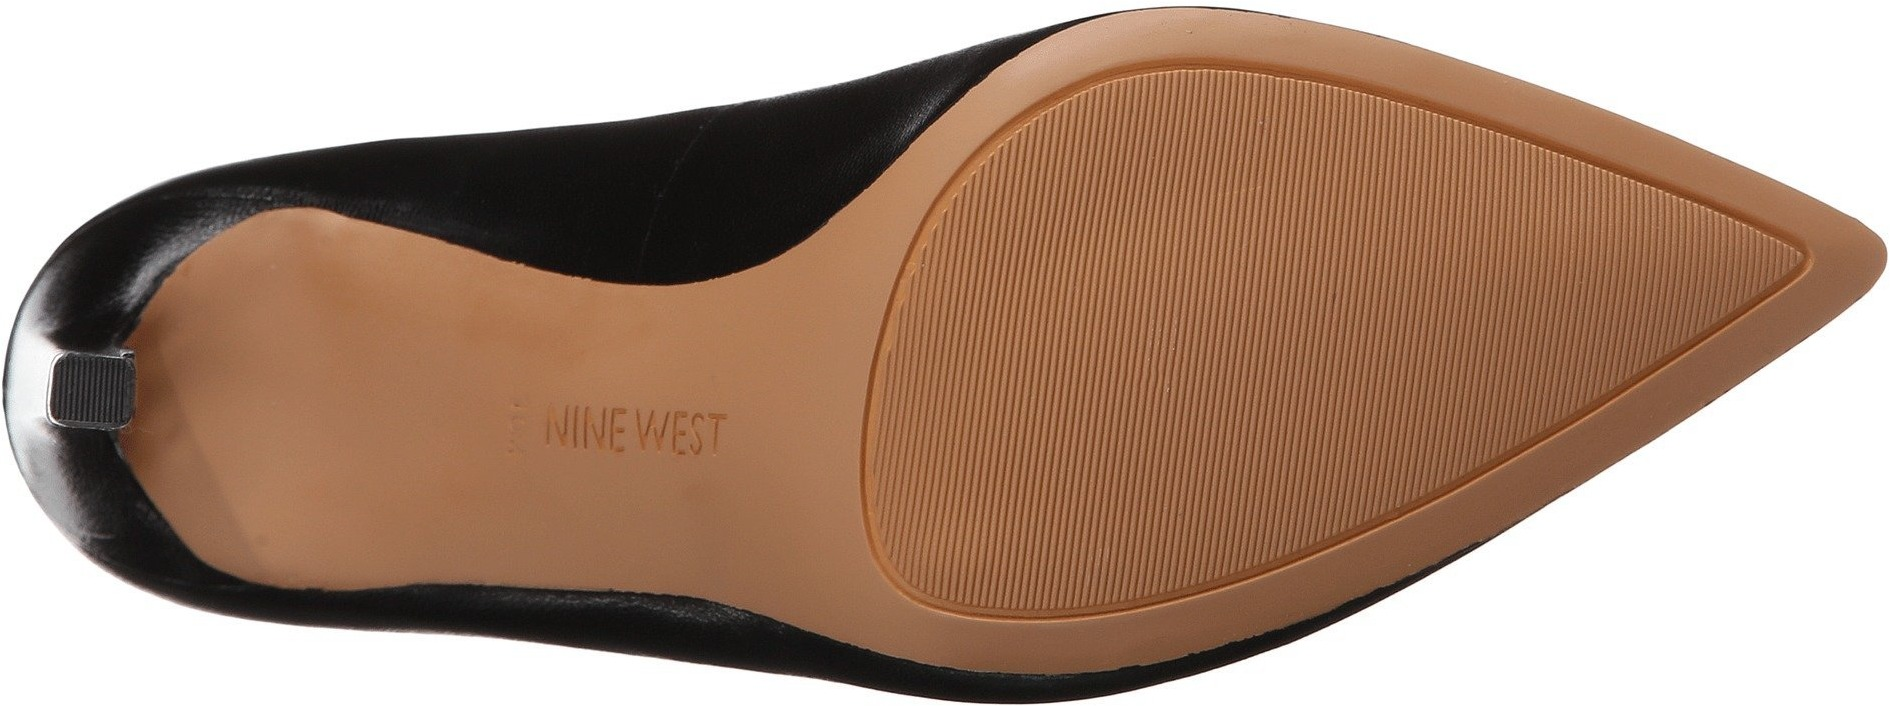exclude: (6, 28, 868, 704)
other: (1268, 142, 1566, 443), (974, 177, 1263, 454), (922, 454, 1093, 613), (1573, 211, 1702, 351), (61, 361, 119, 423)
